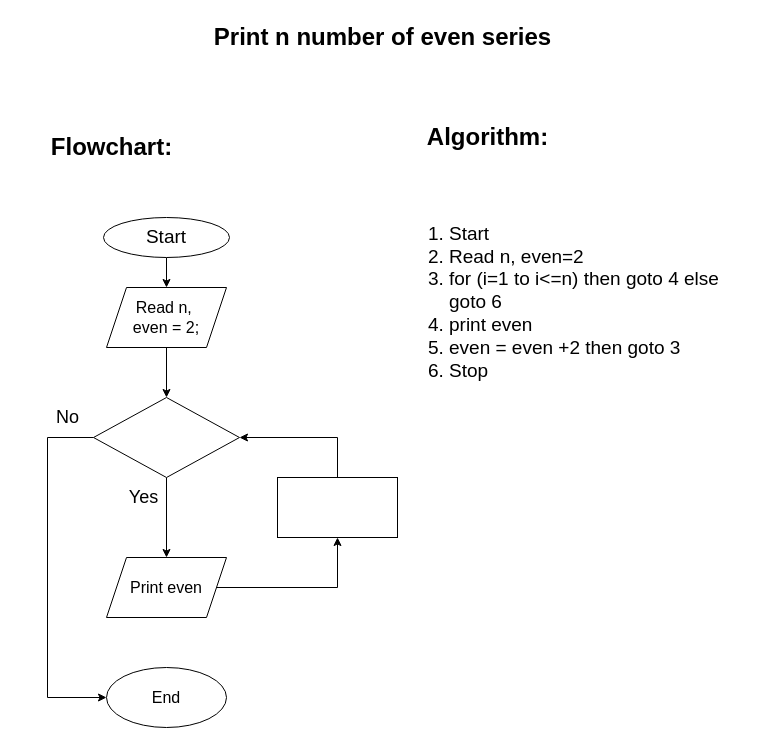
Some shapes in this 764 by 745 pixel diagram are drawn without their labels. Each missing label, with the box of its shape:
even = even +2: (276, 476, 398, 538)
for i = 1 to i<= n: (92, 396, 240, 478)
